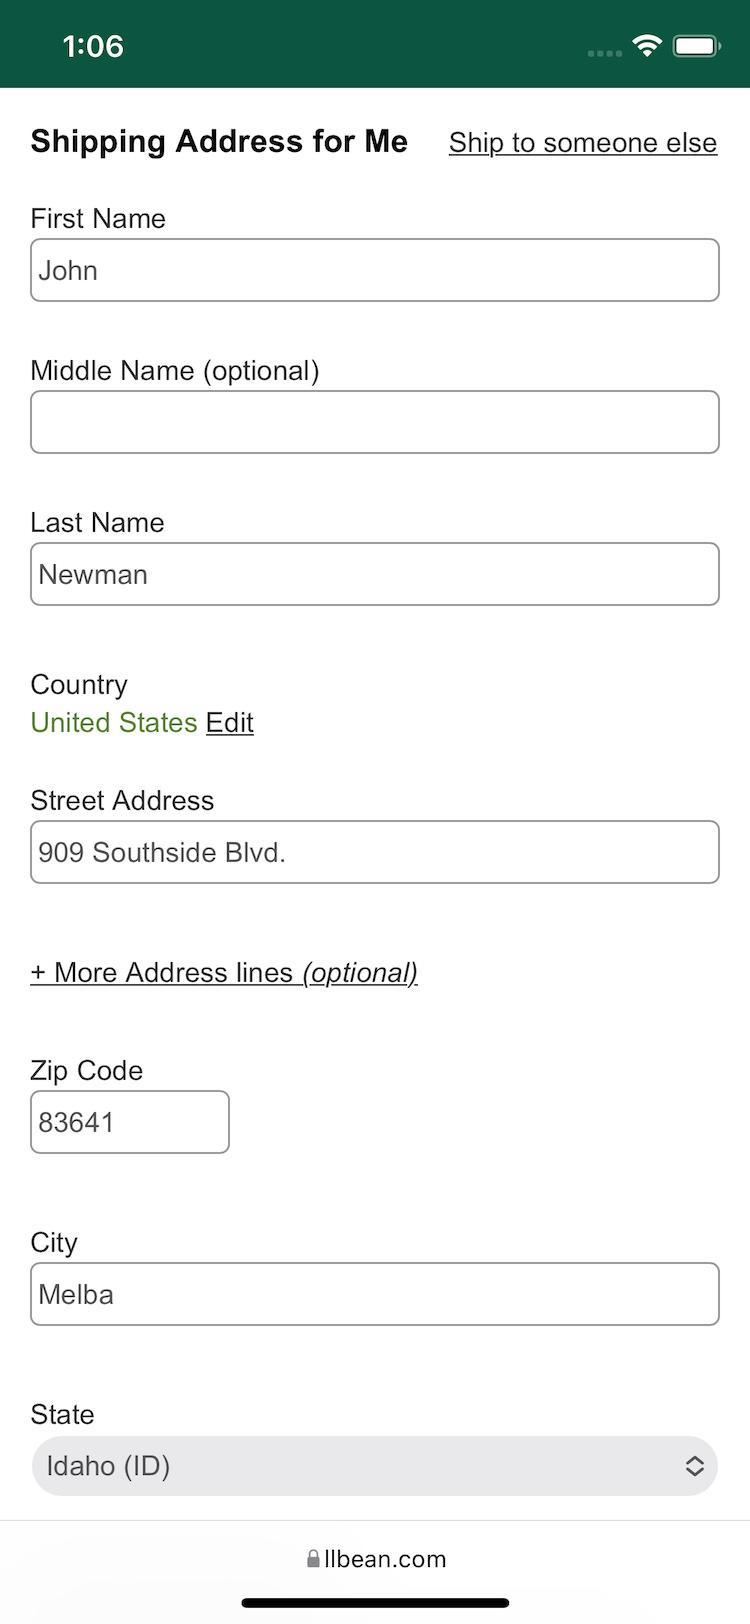dropdown: (30, 1436, 719, 1500)
input: (28, 818, 723, 887), (28, 238, 723, 304), (29, 390, 723, 456), (28, 1262, 723, 1326), (29, 544, 722, 608), (29, 1087, 233, 1155)
label: (28, 116, 413, 168), (24, 951, 426, 995), (27, 353, 335, 389), (28, 708, 267, 744), (26, 782, 222, 817), (28, 508, 173, 540), (31, 205, 175, 232), (28, 671, 146, 703), (27, 1054, 145, 1084), (27, 1225, 95, 1260), (28, 1400, 100, 1428)
